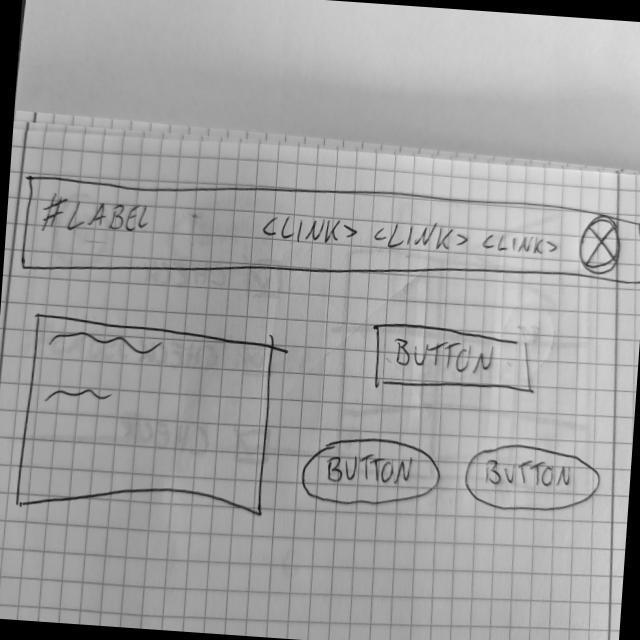button: (371, 320, 536, 398), (300, 434, 445, 513), (462, 440, 605, 518)
container: (19, 162, 640, 315)
image: (577, 215, 624, 277)
label: (40, 190, 155, 241)
link: (373, 216, 474, 256), (260, 211, 360, 249), (482, 229, 562, 259)
textarea: (13, 309, 280, 527)
